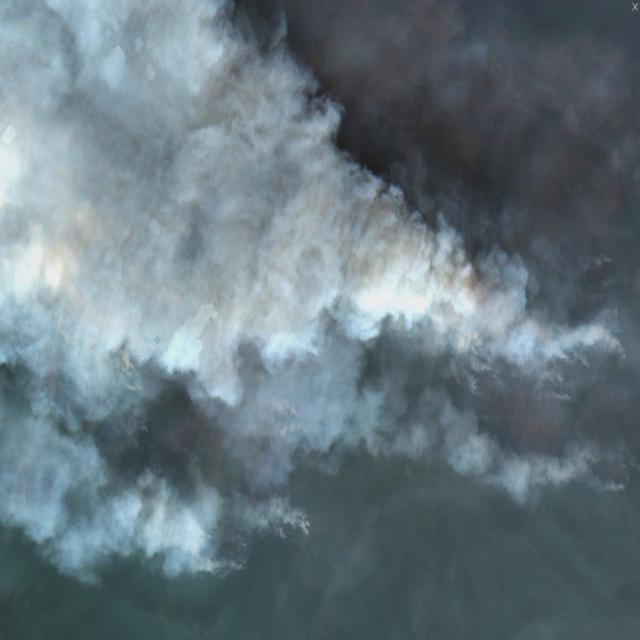fire: (528, 299, 630, 401), (560, 440, 634, 505), (250, 494, 314, 545), (460, 329, 500, 402), (196, 547, 274, 583)
